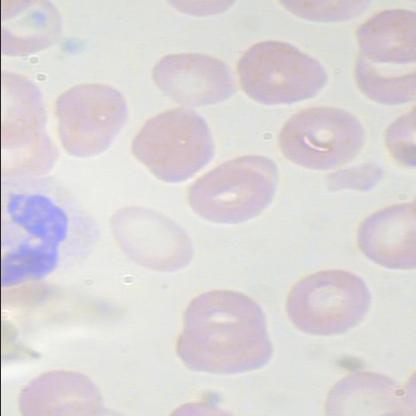RBC: (140, 30, 248, 110), (277, 264, 377, 350), (228, 36, 334, 112), (270, 106, 372, 184), (128, 99, 218, 186), (181, 150, 281, 228), (102, 201, 198, 279), (46, 77, 128, 160), (172, 323, 284, 382), (178, 286, 266, 354), (352, 195, 416, 276)
WBC: (1, 156, 102, 310)
